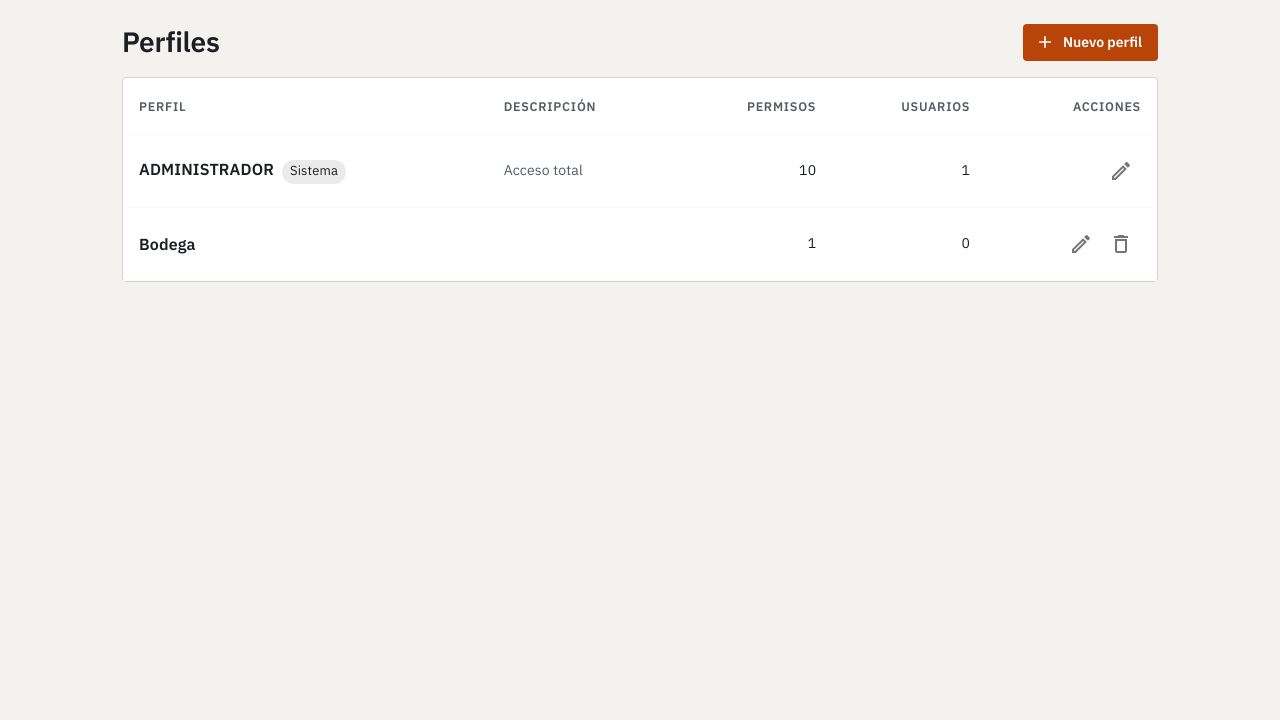
Perfiles › «Todo el módulo» marca y desmarca los permisos del módulo
Click the button "Nuevo perfil": point(1090, 42) [1023,24,1158,60]
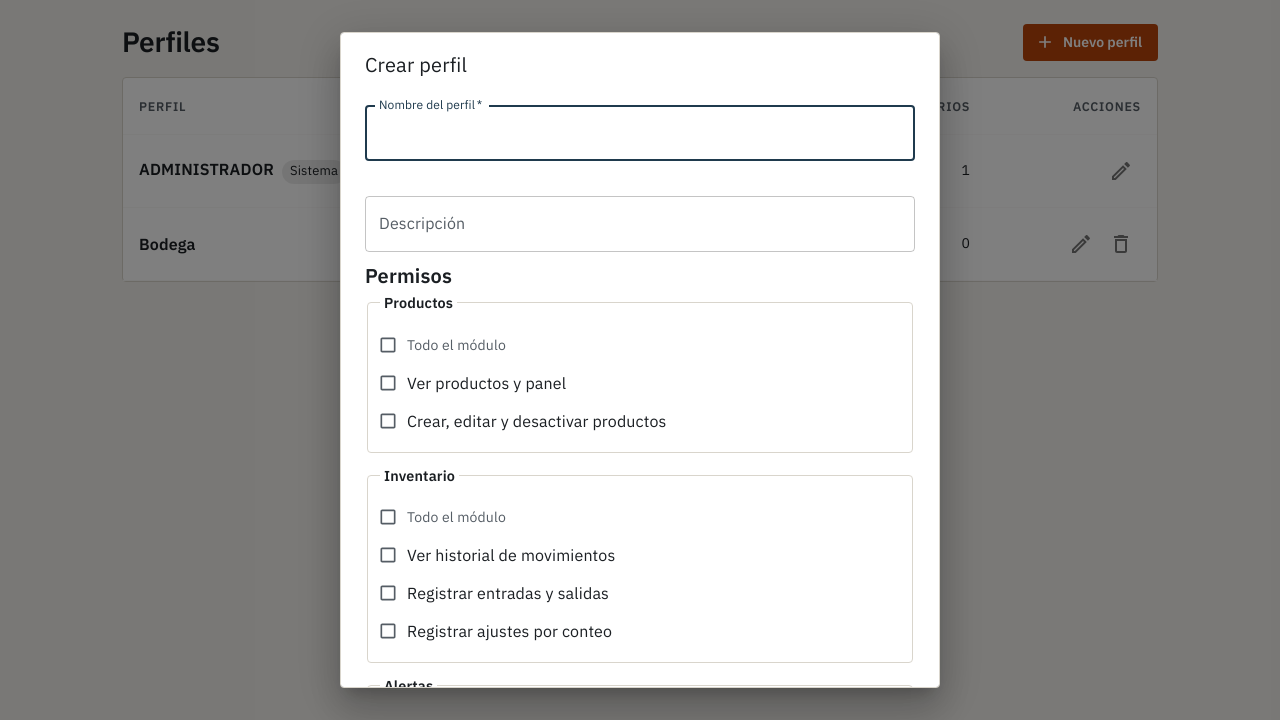
Click the checkbox labelled "Todo el módulo" below "Inventario": point(442, 517) [378,507,506,527]
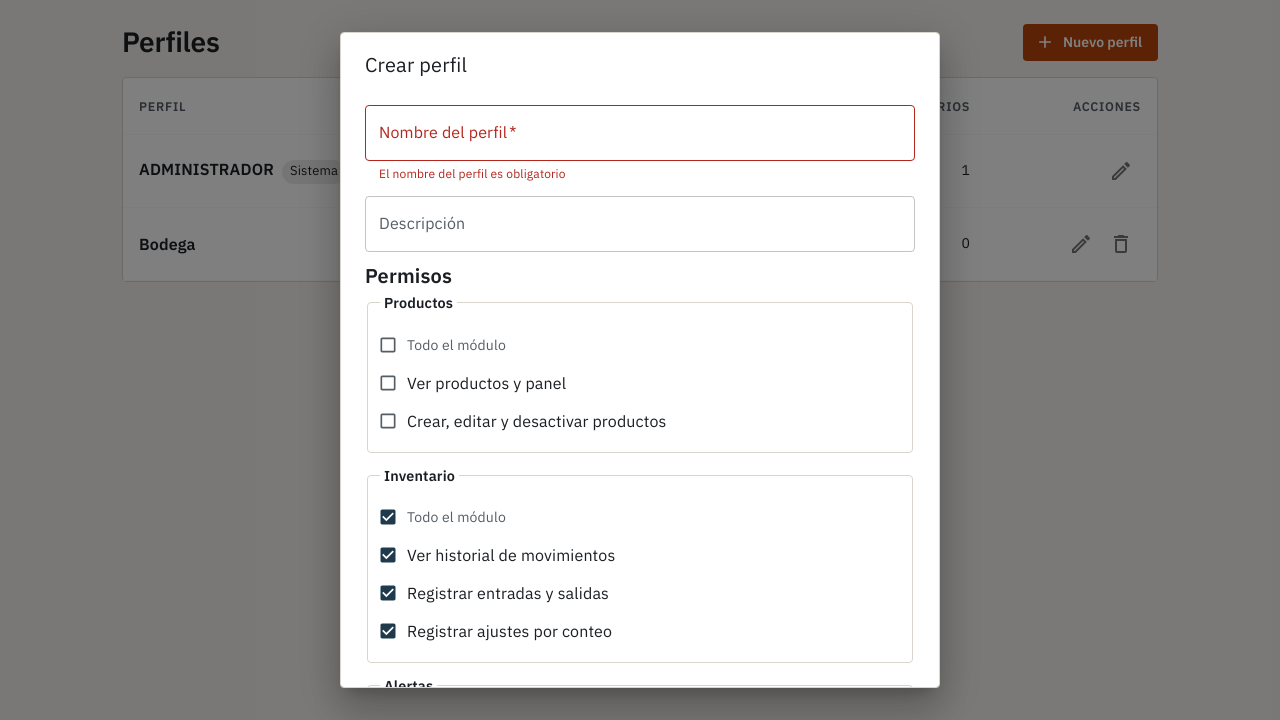
Check: the checkbox labelled "Ver historial de movimientos" is checked, box [378,545,615,565]
Check: the checkbox labelled "Registrar entradas y salidas" is checked, box [378,583,609,603]
Check: the checkbox labelled "Registrar ajustes por conteo" is checked, box [378,621,612,641]
Click the checkbox labelled "Todo el módulo" below "Inventario": point(442, 517) [378,507,506,527]
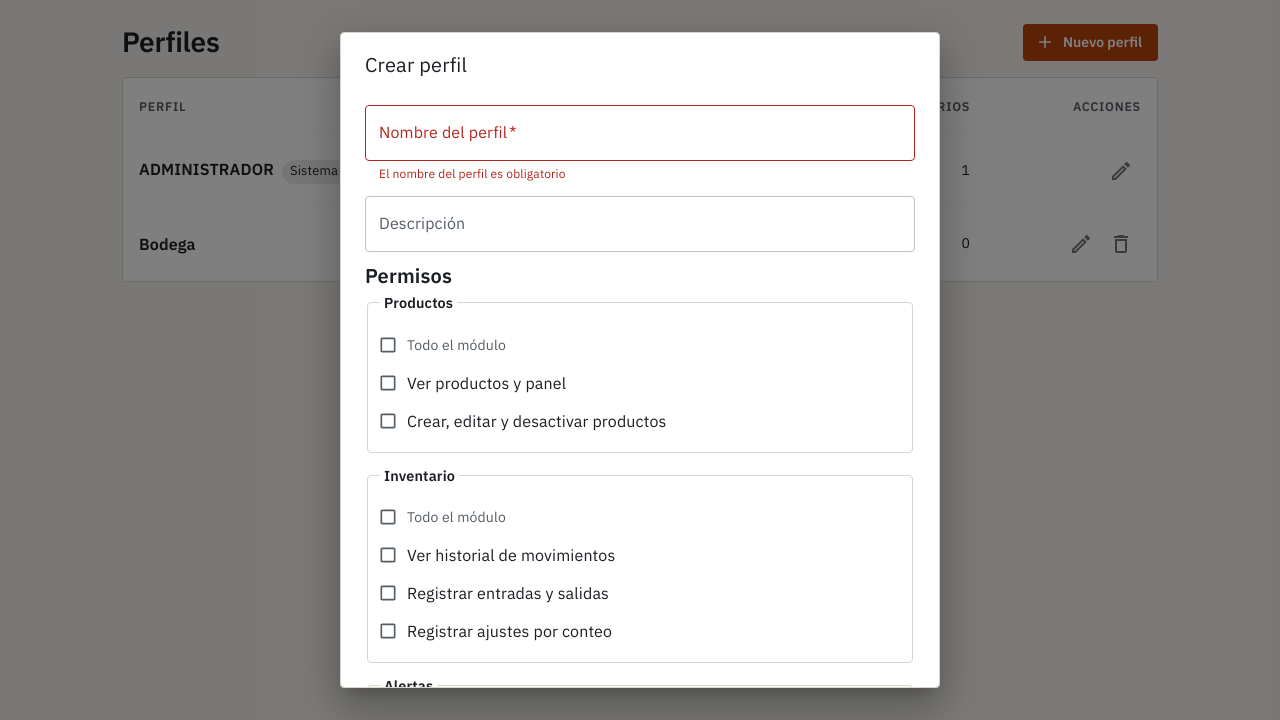
Check: the checkbox labelled "Registrar ajustes por conteo" is not checked, box [378,621,612,641]
